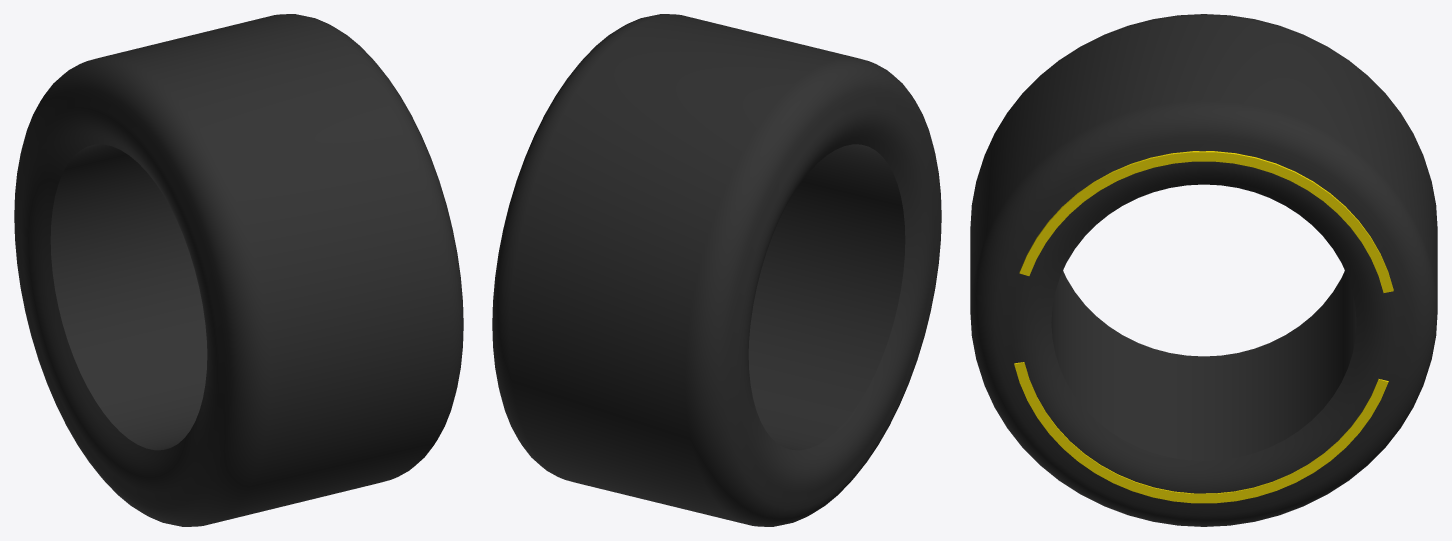
The model's file is slick_rear.glb.
3 renders of one model, left to right at view 1: azimuth 30°, elevation 25°; view 2: azimuth 150°, elevation 25°; view 3: azimuth 270°, elevation 25°, orthographic. The views are drawn at different scales.
Parts seen in each view (by area): view 1: Tyre_slick_rear; view 2: Tyre_slick_rear; view 3: Tyre_slick_rear.
Boxes of the visible parts, box(x1,y1,x2,y2) form: Tyre_slick_rear: box(14, 14, 463, 526); Tyre_slick_rear: box(492, 14, 941, 526); Tyre_slick_rear: box(970, 14, 1437, 526).
Bounding box in the file's own units: 0.4162 × 0.72 × 0.72.
